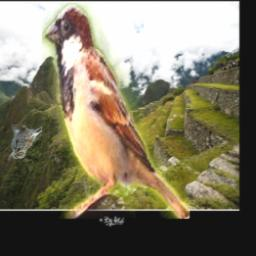Sparrow: (43, 3, 191, 219), (11, 126, 42, 160)
